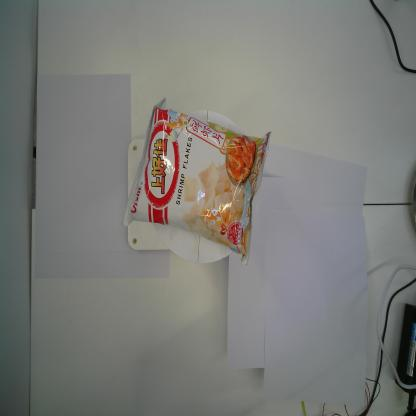Puffed Food: (119, 95, 272, 266)
